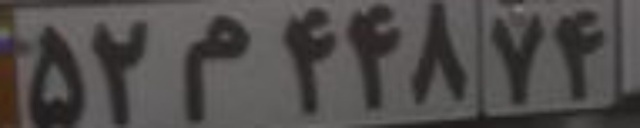2: (92, 21, 148, 124)
4: (342, 4, 403, 109), (279, 8, 338, 113), (553, 11, 606, 101)
5: (26, 23, 80, 126)
7: (488, 13, 544, 104)
8: (412, 2, 465, 105)
mim: (179, 16, 253, 121)
